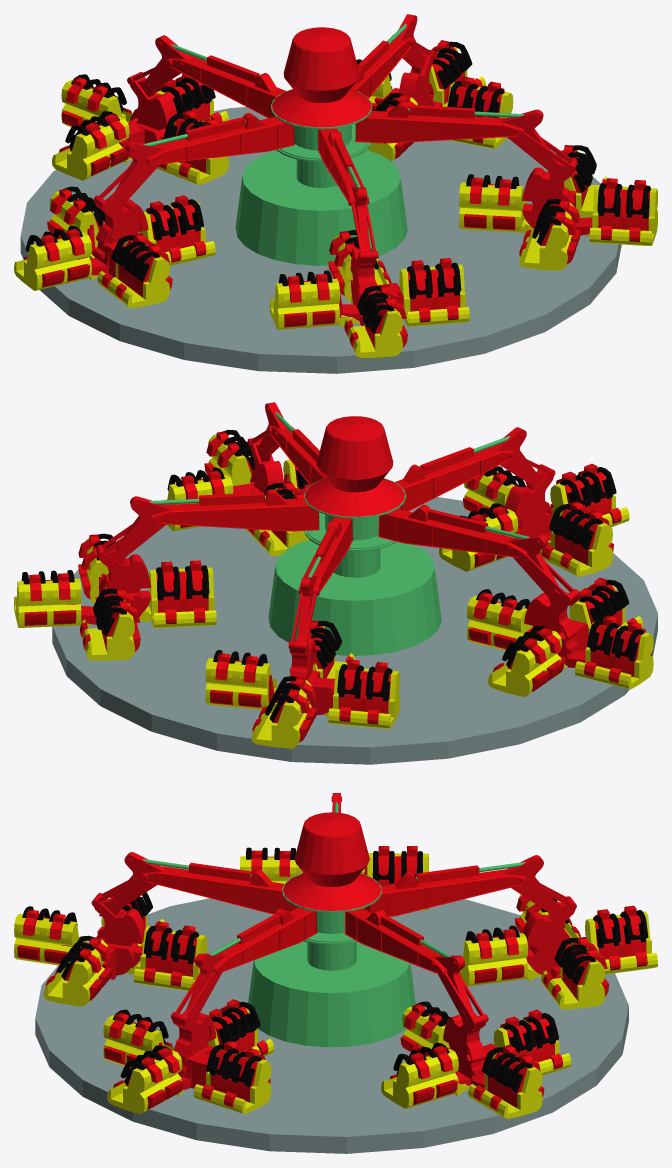
Rendered from DiscoVolante.fbx.
The picture shows the model from 3 angles, top to bottom: view 1: azimuth 30°, elevation 25°; view 2: azimuth 150°, elevation 25°; view 3: azimuth 270°, elevation 25°; orthographic projection. The views are drawn at different scales.
Parts seen in each view (by area): view 1: DiscoVolante; view 2: DiscoVolante; view 3: DiscoVolante.
Part boxes in pixels (x1,y1,x2,y2): DiscoVolante: [14, 14, 657, 373]; DiscoVolante: [14, 402, 657, 764]; DiscoVolante: [14, 793, 657, 1153].
Bounding box in the file's own units: 6134 × 2248 × 6297.
